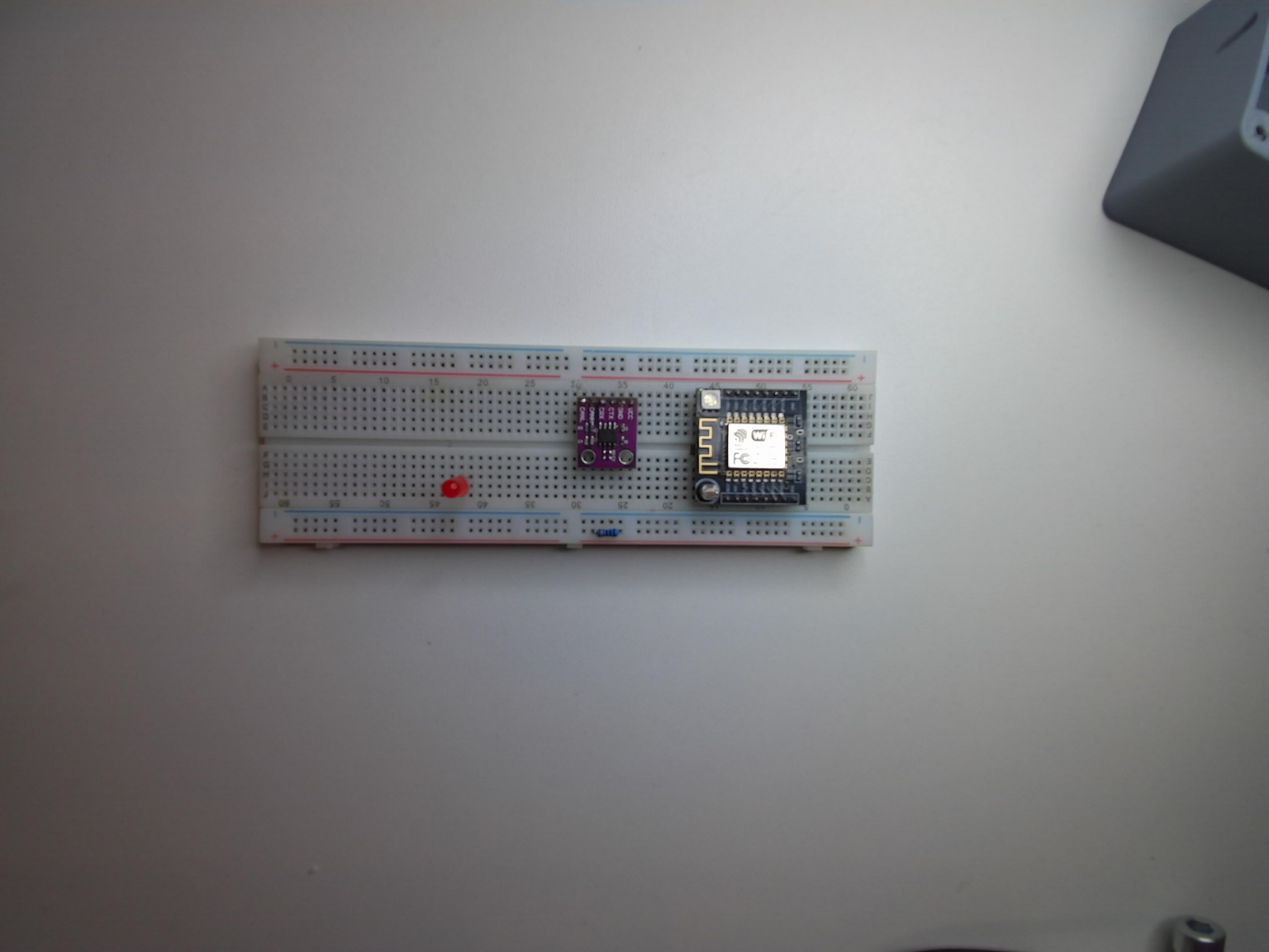base: (248, 342, 883, 554)
esp: (689, 385, 809, 509)
purple-board: (571, 392, 639, 472)
red-led: (437, 473, 474, 501)
resistor-small: (595, 522, 621, 539)
